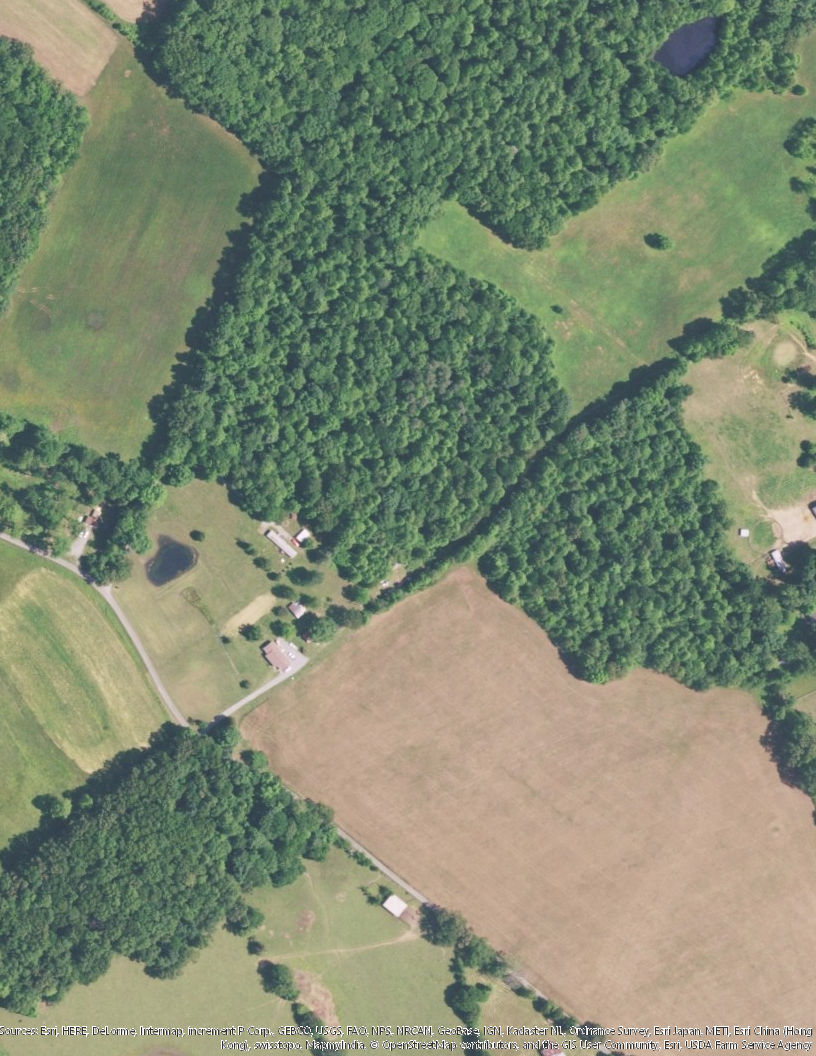cafo: (265, 525, 300, 559)
